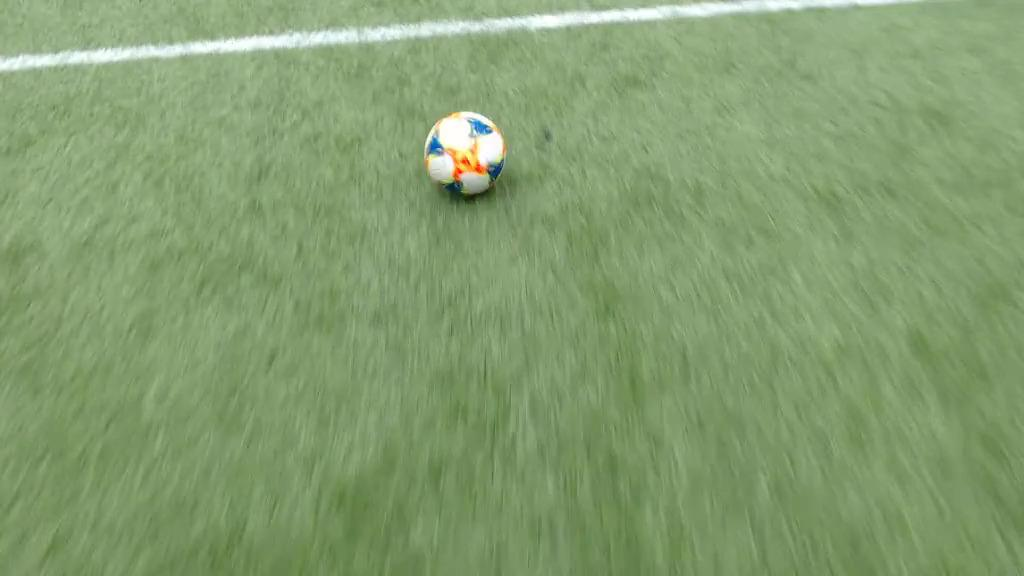ball: (424, 111, 505, 194)
